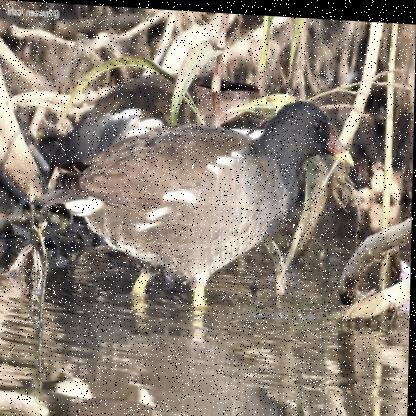Burung: (29, 85, 358, 311)
